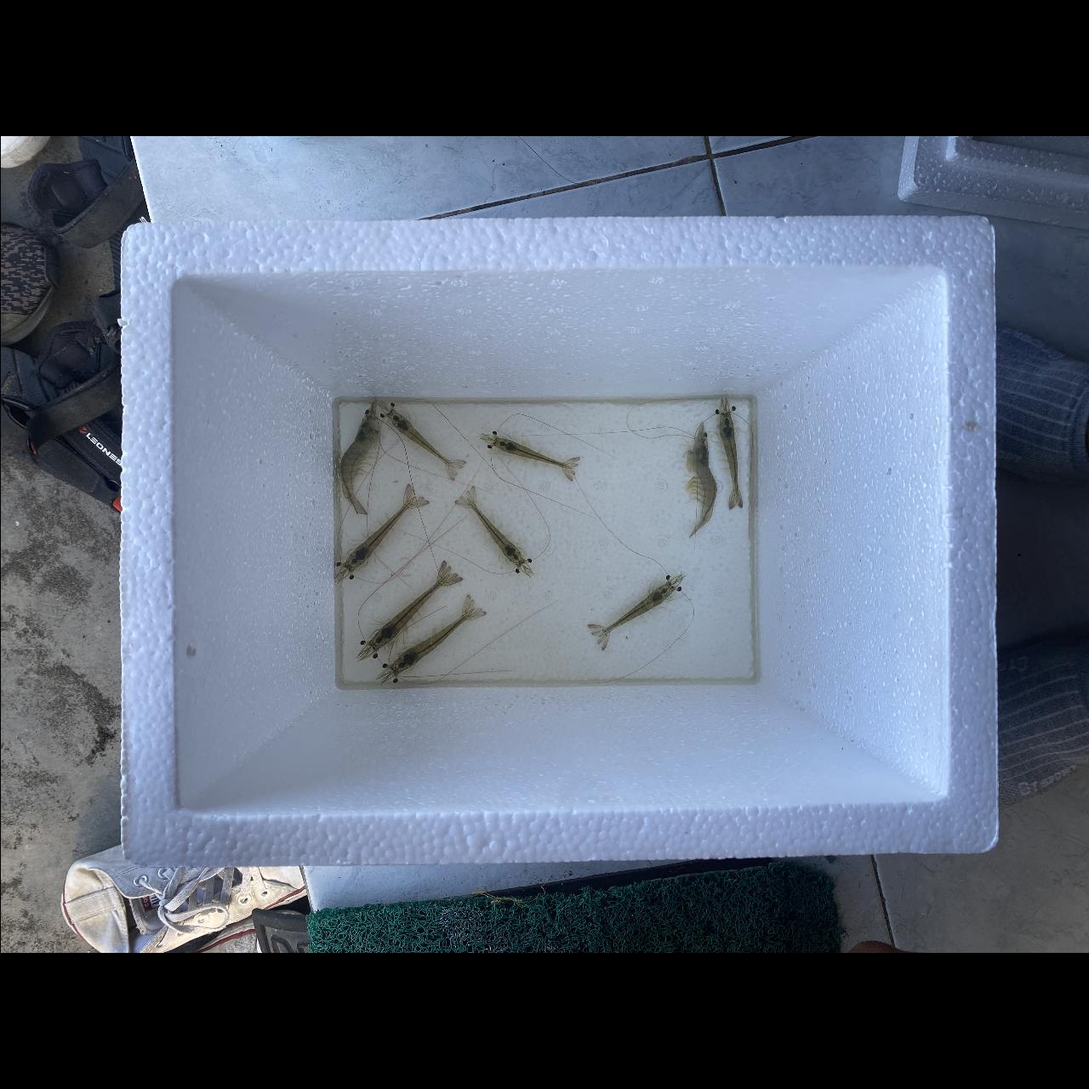side_shrimp: (339, 417, 376, 515), (688, 439, 716, 537)
top_shrimp: (371, 574, 449, 648), (391, 608, 474, 673), (345, 498, 414, 569), (597, 583, 672, 637), (466, 498, 523, 565), (389, 413, 454, 469), (494, 438, 571, 469), (719, 414, 738, 505)
